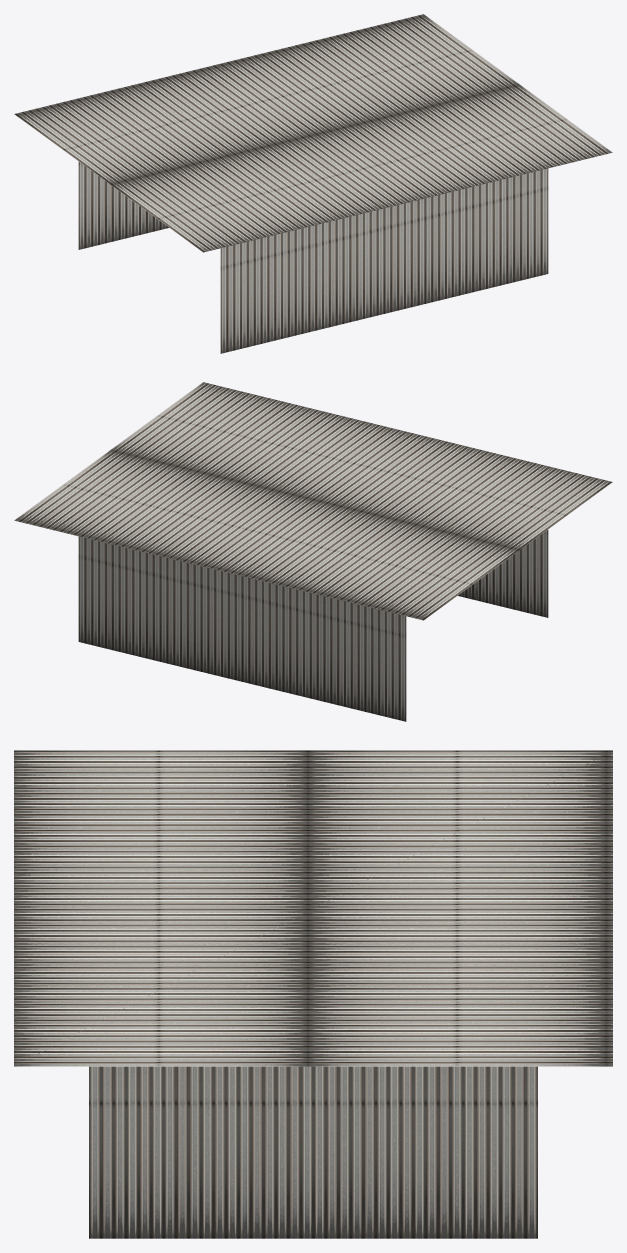
Rendered from LLMGMiniShed.gltf.
The picture shows the model from 3 angles, top to bottom: view 1: azimuth 30°, elevation 25°; view 2: azimuth 150°, elevation 25°; view 3: azimuth 270°, elevation 25°; orthographic projection. The views are drawn at different scales.
Parts seen in each view (by area): view 1: node1; view 2: node1; view 3: node1.
Boxes of the visible parts, x1,y1,x2,y2 form: node1: (14, 14, 612, 353); node1: (14, 382, 612, 721); node1: (14, 750, 612, 1238).
Bounding box in the file's own units: 5 × 1.5 × 4.
